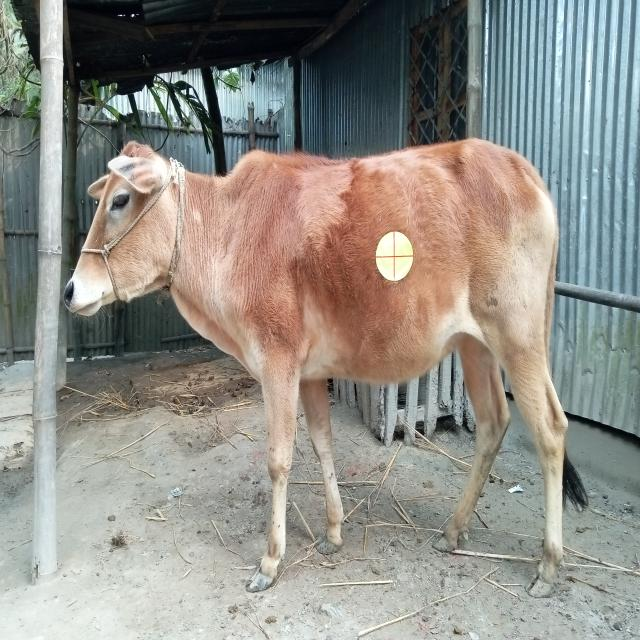badan_sapi: (238, 150, 558, 380)
sapi: (56, 120, 598, 603)
